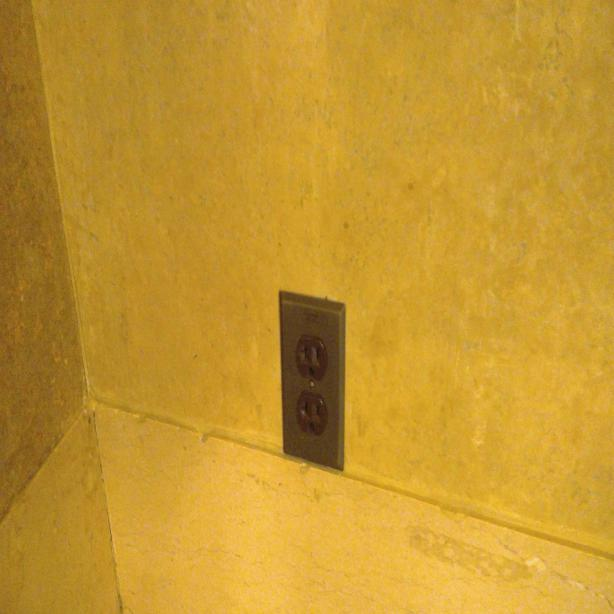typeb: (296, 393, 326, 438), (298, 336, 326, 384)
